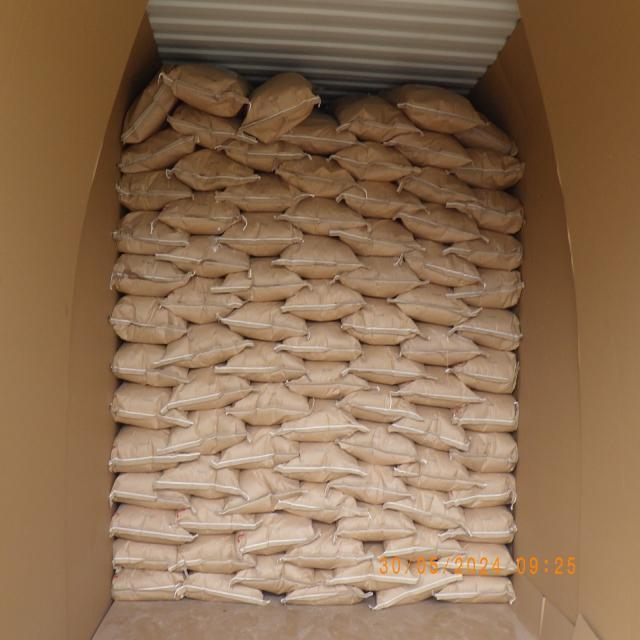gunny_bag: (240, 74, 320, 147), (378, 81, 482, 133), (164, 63, 251, 119), (109, 424, 199, 474), (373, 560, 462, 610), (167, 105, 257, 154), (119, 70, 178, 144), (157, 233, 251, 277), (334, 92, 416, 142), (159, 324, 250, 369), (215, 258, 306, 302), (165, 408, 248, 456), (163, 276, 244, 324), (392, 282, 478, 327), (166, 364, 250, 410), (109, 384, 189, 432), (280, 233, 365, 278), (339, 296, 418, 344), (156, 456, 244, 499), (401, 242, 479, 290), (220, 212, 305, 256), (277, 444, 367, 485), (221, 301, 310, 342), (110, 342, 191, 387), (111, 255, 192, 300), (276, 154, 357, 199), (119, 128, 198, 174), (337, 256, 423, 298), (330, 140, 414, 183), (216, 426, 300, 469), (218, 342, 308, 382), (394, 449, 474, 494), (450, 190, 526, 237), (278, 401, 363, 443), (284, 278, 367, 321), (172, 153, 259, 194), (228, 386, 312, 428), (112, 502, 196, 544), (160, 192, 242, 235), (278, 482, 364, 523), (399, 324, 479, 368), (398, 202, 480, 244), (239, 514, 319, 557), (280, 323, 364, 363), (394, 366, 478, 406), (390, 408, 468, 451), (219, 175, 307, 213), (329, 552, 416, 590), (346, 344, 428, 384), (337, 422, 417, 463), (286, 531, 368, 571), (280, 197, 364, 236), (116, 171, 194, 213), (112, 210, 188, 253), (336, 386, 417, 426), (388, 130, 471, 169), (232, 554, 317, 592), (444, 228, 524, 268), (338, 219, 420, 258), (110, 473, 194, 511), (172, 536, 256, 574), (223, 476, 304, 515), (399, 165, 477, 205), (341, 180, 423, 218), (326, 468, 408, 506), (451, 150, 525, 192), (288, 360, 372, 397), (451, 347, 518, 393), (109, 308, 188, 347), (452, 310, 522, 354), (177, 497, 259, 534), (176, 570, 265, 604), (451, 268, 524, 309), (451, 429, 519, 472), (385, 492, 466, 528), (284, 118, 359, 156), (380, 528, 463, 562), (110, 296, 188, 332), (436, 544, 518, 578), (224, 141, 307, 174), (452, 394, 520, 434), (444, 505, 518, 541), (332, 507, 412, 540), (447, 473, 518, 509), (114, 539, 188, 572), (434, 576, 516, 604), (456, 122, 519, 156), (114, 568, 186, 596), (284, 581, 371, 602)
